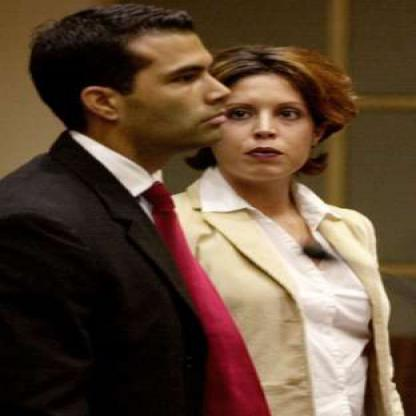face: (99, 14, 232, 155), (207, 57, 322, 184)
